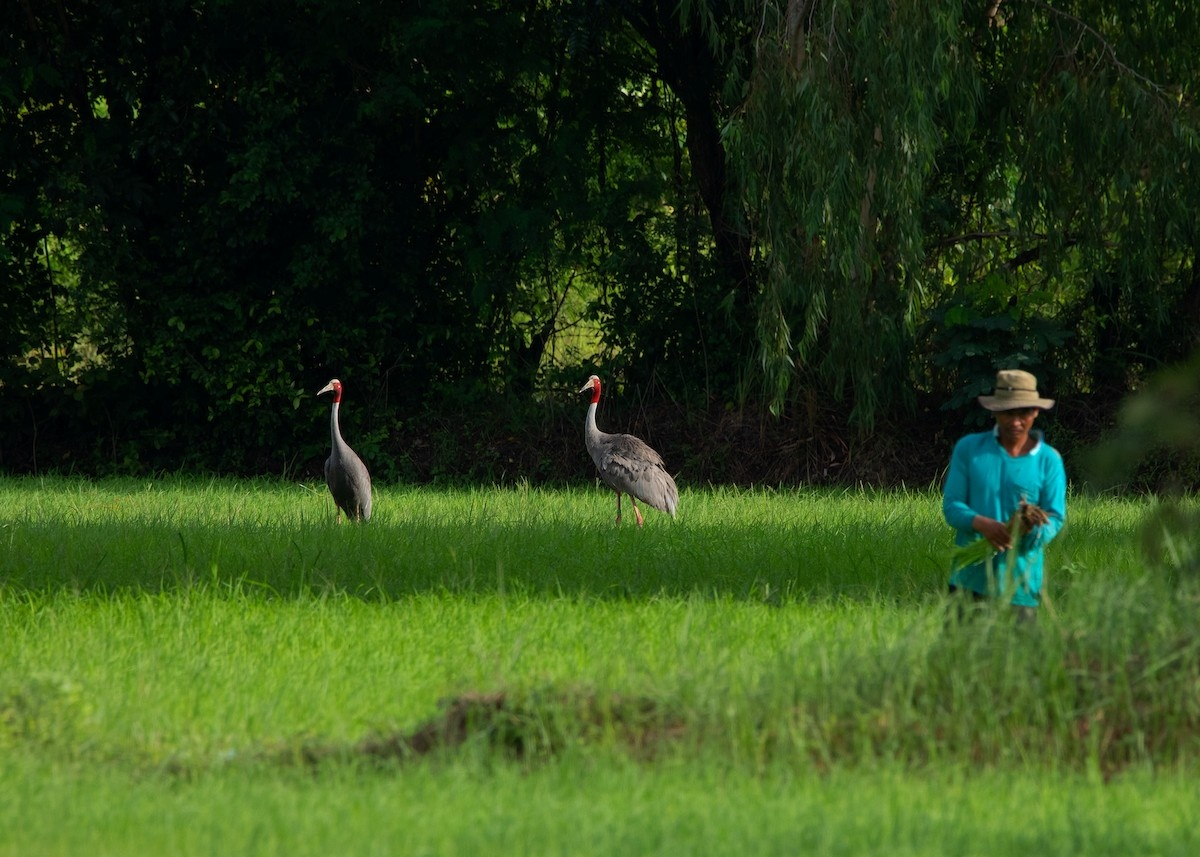crane: (570, 370, 684, 527), (308, 369, 376, 535)
